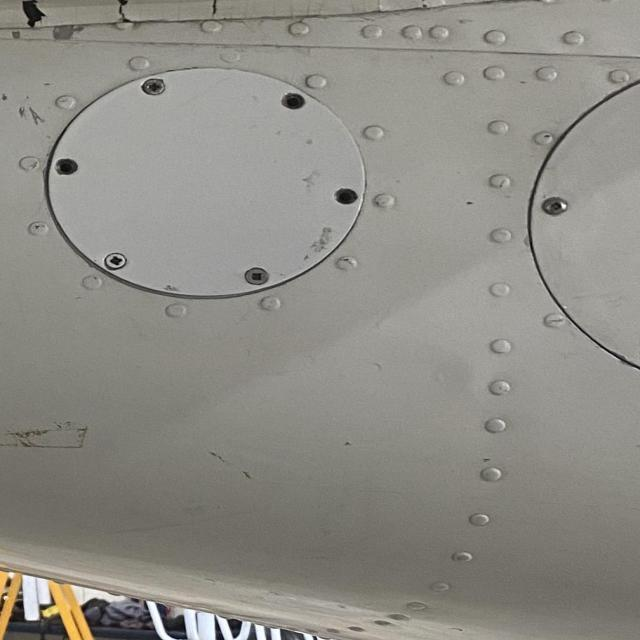Missing-head: (336, 187, 362, 206), (55, 157, 81, 175), (283, 92, 309, 109)
Paint-off: (0, 91, 67, 137), (209, 450, 253, 481), (51, 24, 80, 40), (339, 437, 367, 450), (9, 30, 23, 41)
